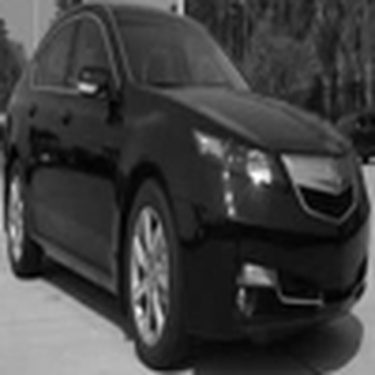car: (1, 3, 369, 371)
